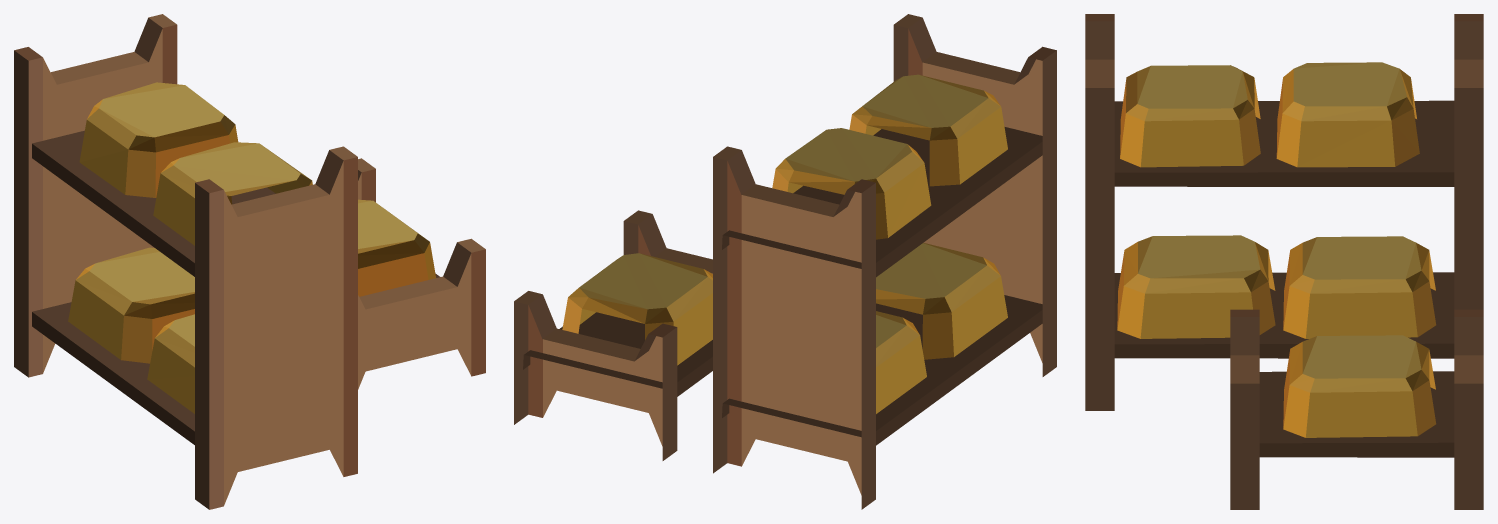
File: village-decor03.fbx
3 renders of one model, left to right at view 1: azimuth 30°, elevation 25°; view 2: azimuth 150°, elevation 25°; view 3: azimuth 270°, elevation 25°, orthographic.
Visible parts, largest first — view 1: village-decor03; view 2: village-decor03; view 3: village-decor03.
Boxes of the visible parts, x1=… form: village-decor03: x1=14, y1=14, x2=485, y2=509; village-decor03: x1=514, y1=14, x2=1056, y2=509; village-decor03: x1=1085, y1=14, x2=1483, y2=509.
Size of the model in its own units: 0.7833 by 0.682 by 0.7624.
1 material, 1 textured.
